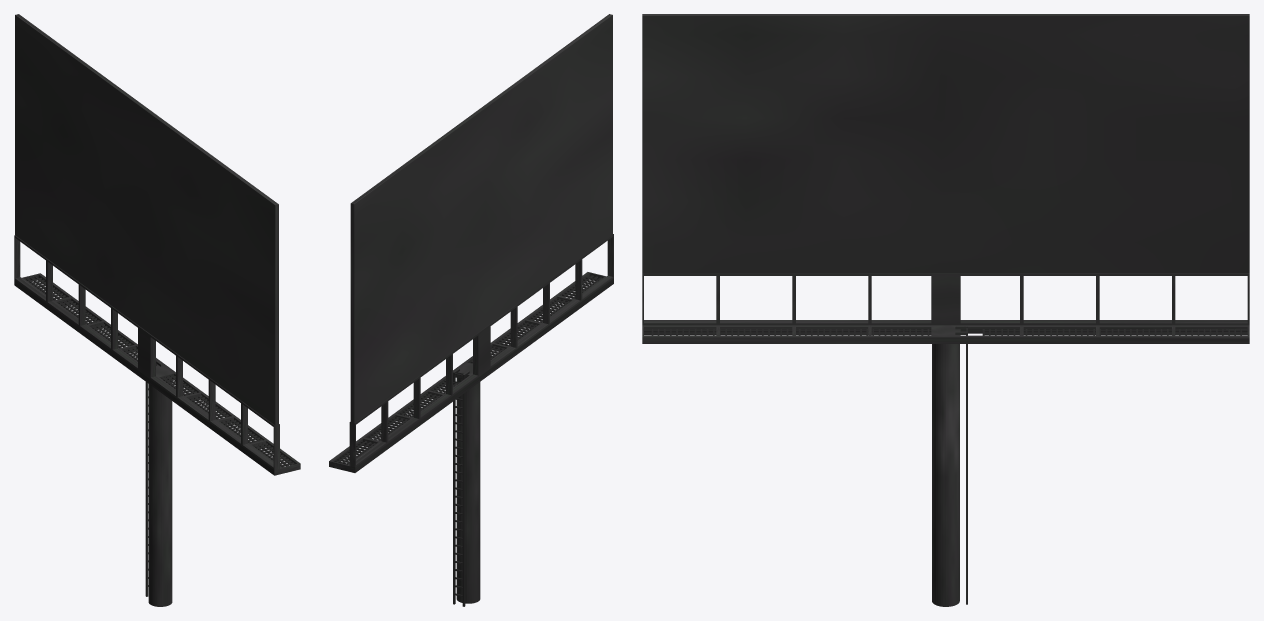
The model's file is Billboard.fbx.
3 views of the same model, side by side, from view 1: azimuth 30°, elevation 25°; view 2: azimuth 150°, elevation 25°; view 3: azimuth 270°, elevation 25° (orthographic). The views are drawn at different scales.
Parts seen in each view (by area): view 1: Bill Board; view 2: Bill Board; view 3: Bill Board.
Part boxes in pixels (box(x1,y1,x2,y2)): Bill Board: box(14, 14, 300, 606); Bill Board: box(329, 14, 613, 606); Bill Board: box(642, 14, 1249, 606).
Bounding box in the file's own units: 37.98 × 678 × 645.
